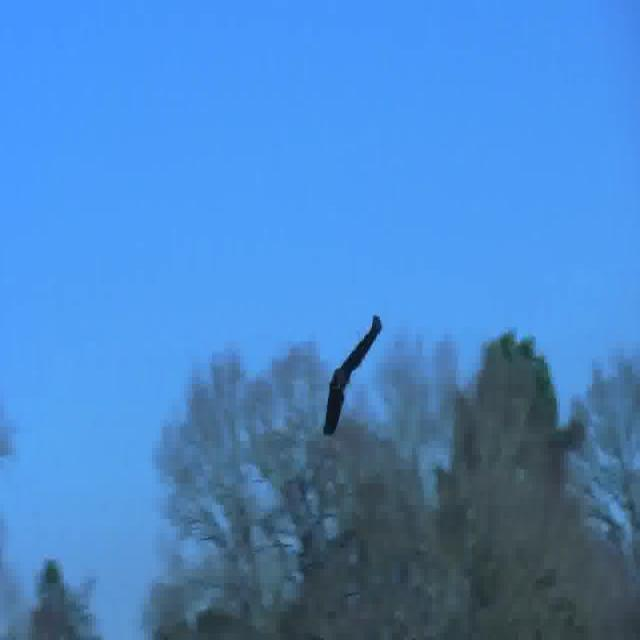iha: (352, 308, 358, 442)
